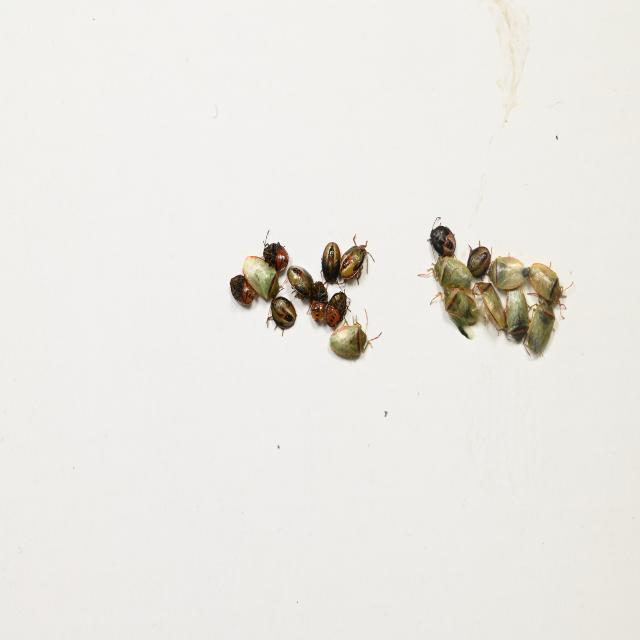stinkbug: (525, 256, 573, 320), (326, 309, 382, 362), (428, 287, 482, 337), (417, 257, 476, 294), (526, 292, 556, 358), (472, 280, 507, 333), (488, 251, 530, 292), (242, 256, 280, 300), (503, 287, 530, 348)
